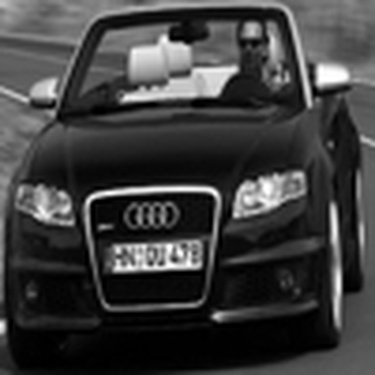car: (1, 7, 369, 358)
